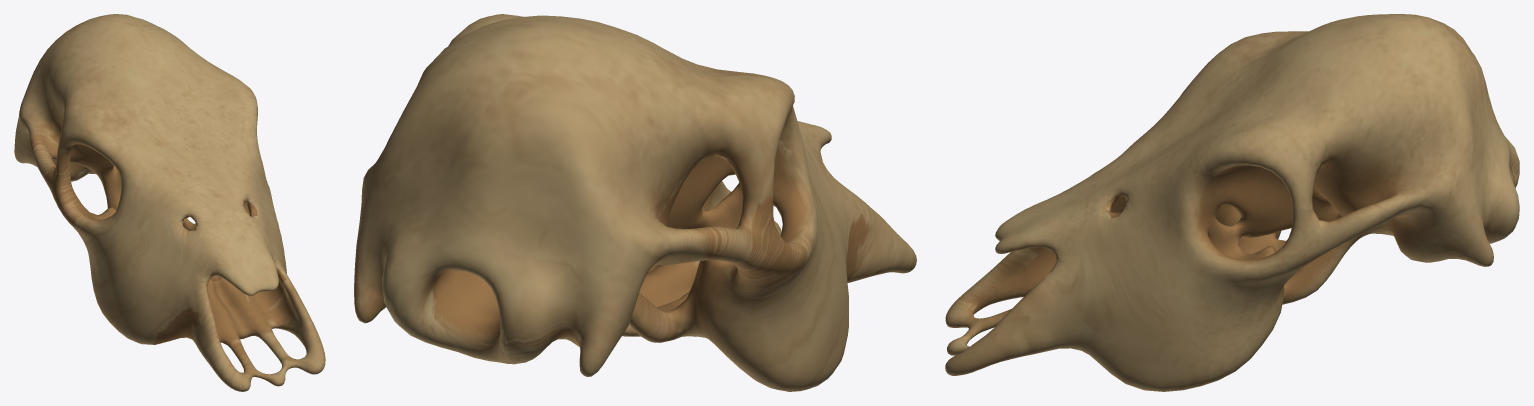
File: Skull.glb
The picture shows the model from 3 angles, left to right: view 1: azimuth 30°, elevation 25°; view 2: azimuth 150°, elevation 25°; view 3: azimuth 270°, elevation 25°; orthographic projection. The views are drawn at different scales.
Parts seen in each view (by area): view 1: ZBrush_defualt_group.019; view 2: ZBrush_defualt_group.019; view 3: ZBrush_defualt_group.019.
Boxes of the visible parts, box(x1,y1,x2,y2) form: ZBrush_defualt_group.019: box(14, 14, 325, 391); ZBrush_defualt_group.019: box(354, 14, 916, 391); ZBrush_defualt_group.019: box(945, 14, 1519, 391).
Size of the model in its own units: 128 by 154 by 241.
1 material, 1 textured.
